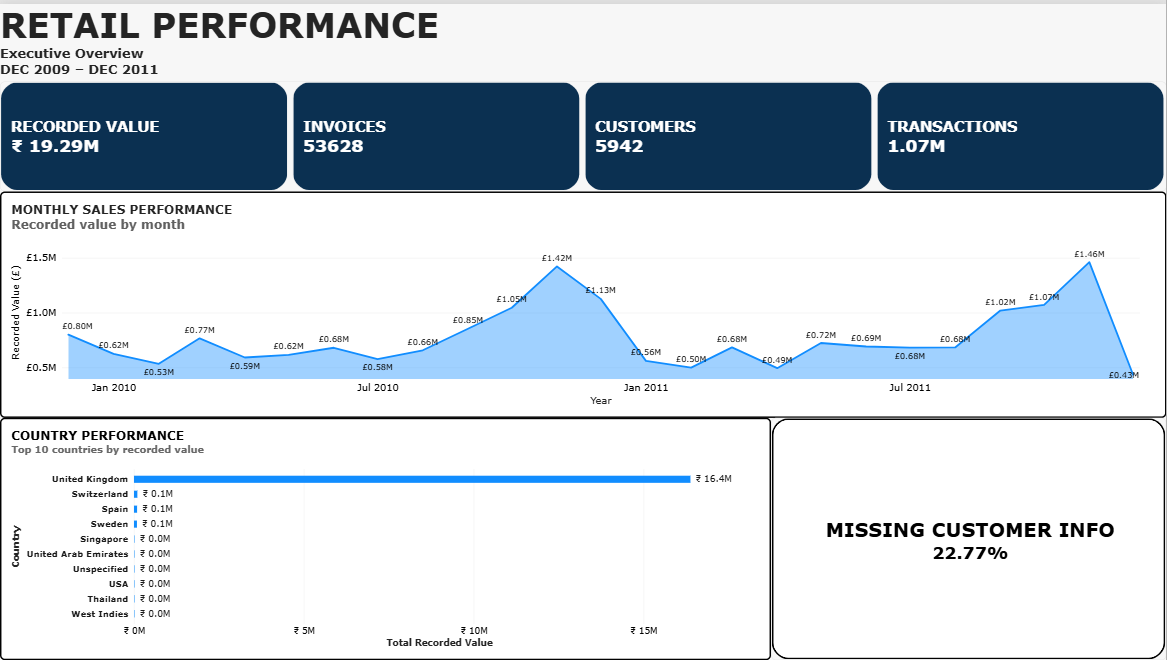

What the dashboard file says about the page in this screenshot:
{"tool":"powerbi","page":{"name":"Excutive Overview","canvas":[1920,1080],"ordinal":0},"visuals":[{"type":"cardVisual","fields":{"Data":["online_retail_full.Total Recorded Sales","online_retail_full.Total Invoices","online_retail_full.Identifiable Customers","online_retail_full.Total Transactions"]},"box":[0,127.6,1920.4,181.1],"z":0},{"type":"textbox","box":[0,0,1920.4,127.6],"z":1000},{"type":"lineChart","title":"MONTHLY SALES PERFORMANCE","fields":{"Category":["online_retail_full.InvoiceDate.Variation.Date Hierarchy.Year","online_retail_full.InvoiceDate.Variation.Date Hierarchy.Month"],"Y":["online_retail_full.Total Recorded Sales"]},"box":[0,308.7,1920.4,372.6],"z":2000},{"type":"clusteredBarChart","title":"COUNTRY PERFORMANCE","fields":{"Category":["online_retail_full.Country"],"Y":["online_retail_full.Total Recorded Value"]},"box":[0,681.3,1270,399.3],"z":3000},{"type":"cardVisual","fields":{"Data":["online_retail_full.Missing Customer ID %"]},"box":[1270,681.3,650.4,399.3],"z":4000}]}

Visuals, with their boxes in screenshot pixels (x1, y1, x2, y2), scaled from the page's 1920x1080 canvas onto the 1167x660 screenshot:
cardVisual - online_retail_full.Total Recorded Sales x online_retail_full.Total Invoices: {"left": 0, "top": 78, "right": 1166, "bottom": 189}
textbox: {"left": 0, "top": 0, "right": 1166, "bottom": 78}
"MONTHLY SALES PERFORMANCE" lineChart: {"left": 0, "top": 189, "right": 1166, "bottom": 416}
"COUNTRY PERFORMANCE" clusteredBarChart: {"left": 0, "top": 416, "right": 772, "bottom": 659}
cardVisual - online_retail_full.Missing Customer ID %: {"left": 772, "top": 416, "right": 1166, "bottom": 659}
